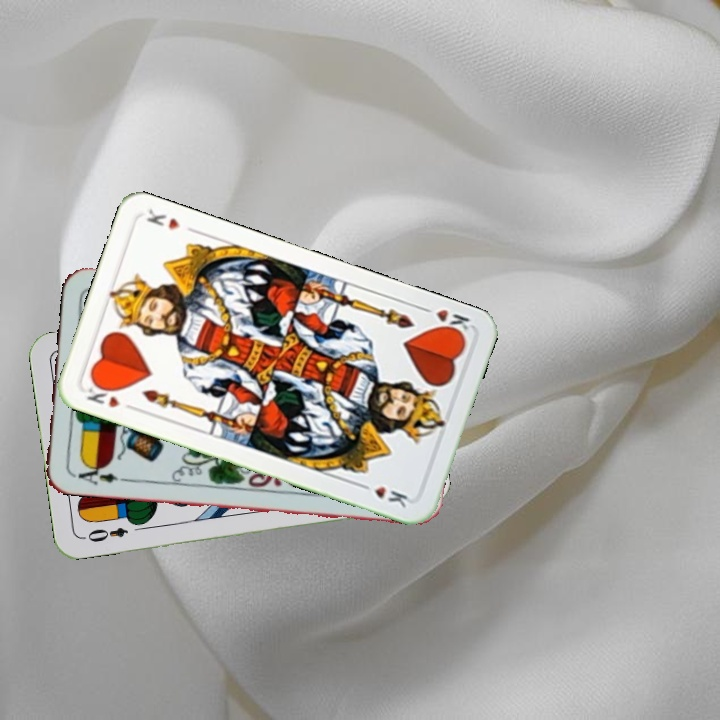EA: (69, 460, 128, 488)
EO: (78, 523, 131, 545)
HK: (416, 302, 473, 340), (82, 377, 138, 414)
